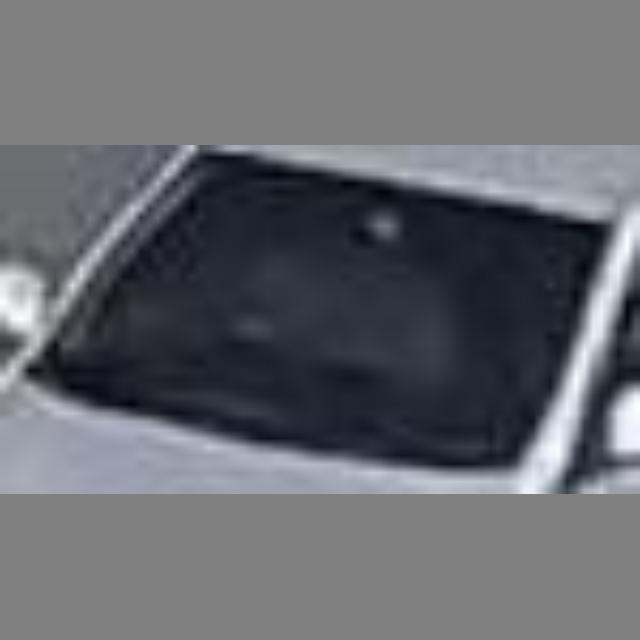tidak-pakai: (239, 205, 452, 375)
